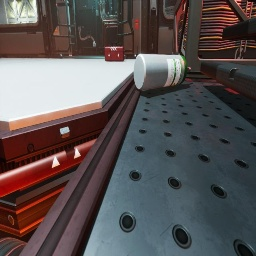0: (134, 54, 191, 91)
FireAlarm ,: (135, 19, 139, 29)
FirstAidBox ,: (105, 42, 125, 62)
NitrogenTank ,: (0, 56, 0, 58)
SafetySwitchPanel ,: (53, 9, 61, 35)
